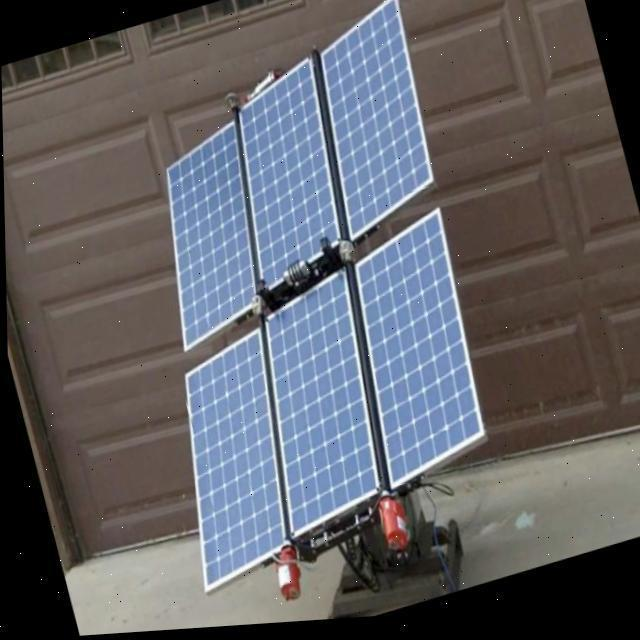Normal Solar Panel: (328, 212, 498, 497), (231, 274, 400, 544), (144, 331, 314, 598), (295, 0, 449, 247), (212, 60, 360, 294), (132, 122, 280, 356)
